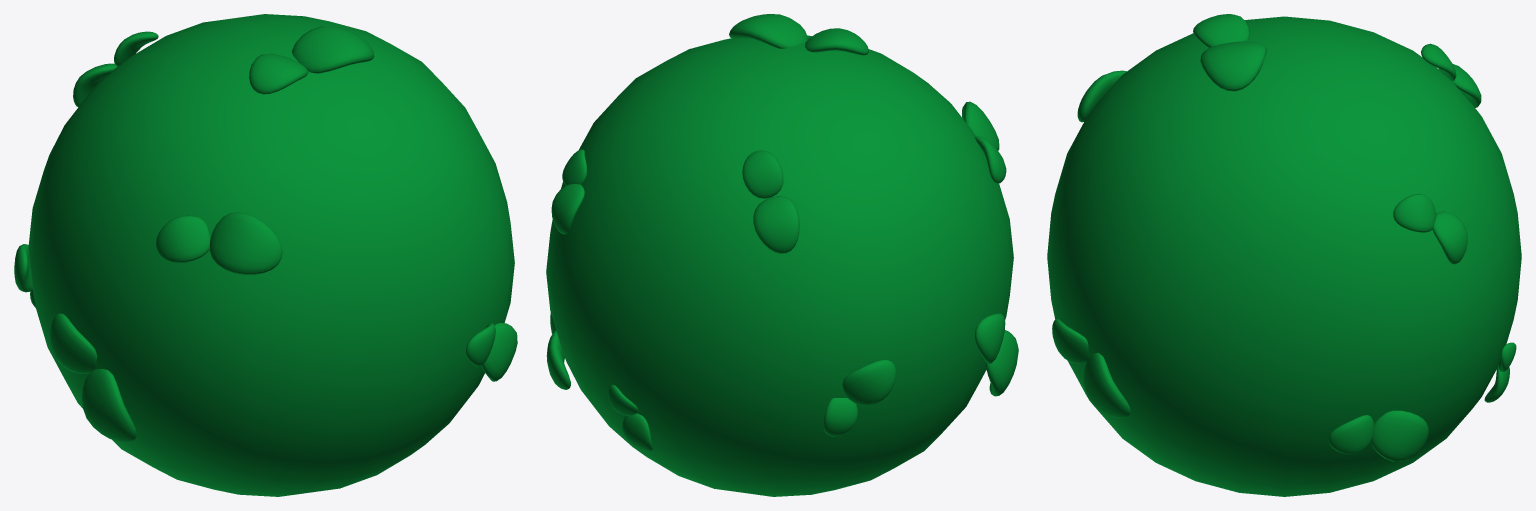
The model's file is Farm_7_Bush_1.glb.
3 renders of one model, left to right at view 1: azimuth 30°, elevation 25°; view 2: azimuth 150°, elevation 25°; view 3: azimuth 270°, elevation 25°, orthographic. The views are drawn at different scales.
Parts seen in each view (by area): view 1: Farm_7_Bush_1; view 2: Farm_7_Bush_1; view 3: Farm_7_Bush_1.
Boxes of the visible parts, left/top/right/bottom form: Farm_7_Bush_1: left=14, top=14, right=517, bottom=496; Farm_7_Bush_1: left=546, top=14, right=1018, bottom=496; Farm_7_Bush_1: left=1047, top=14, right=1521, bottom=496.
Size of the model in its own units: 1.15 by 1.14 by 1.11.
Materials: 1 (1 with a texture image).
